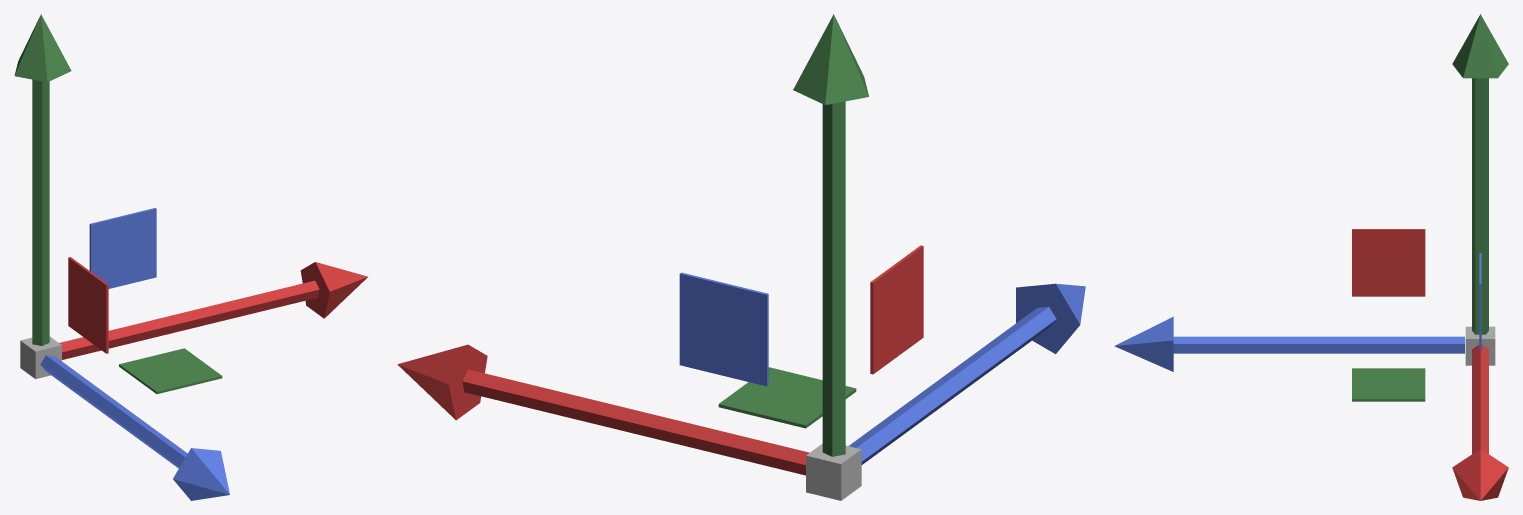
File: Gizmo.fbx
The picture shows the model from 3 angles, left to right: view 1: azimuth 30°, elevation 25°; view 2: azimuth 150°, elevation 25°; view 3: azimuth 270°, elevation 25°; orthographic projection. The views are drawn at different scales.
Visible parts, largest first — view 1: Y, X, Z, XY, YZ, XZ, Gizmo; view 2: Y, X, Z, XY, YZ, XZ, Gizmo; view 3: Z, Y, YZ, X, XZ, Gizmo.
Part boxes in pixels (x1,y1,x2,y2): Y: (14,14,71,345); X: (59,262,367,359); Z: (40,355,229,500); XY: (89,208,156,288); YZ: (68,257,108,353); XZ: (119,348,222,393); Gizmo: (20,336,61,378); Y: (793,14,868,456); X: (397,344,809,475); Z: (849,283,1085,464); XY: (679,272,768,386); YZ: (870,245,923,374); XZ: (718,367,856,428); Gizmo: (806,443,861,500); Z: (1114,316,1464,371); Y: (1452,14,1508,334); YZ: (1352,229,1425,296); X: (1452,345,1508,500); XZ: (1352,368,1425,401); Gizmo: (1465,326,1495,365).
Size of the model in its own units: 4.31 by 4.29 by 4.29.
